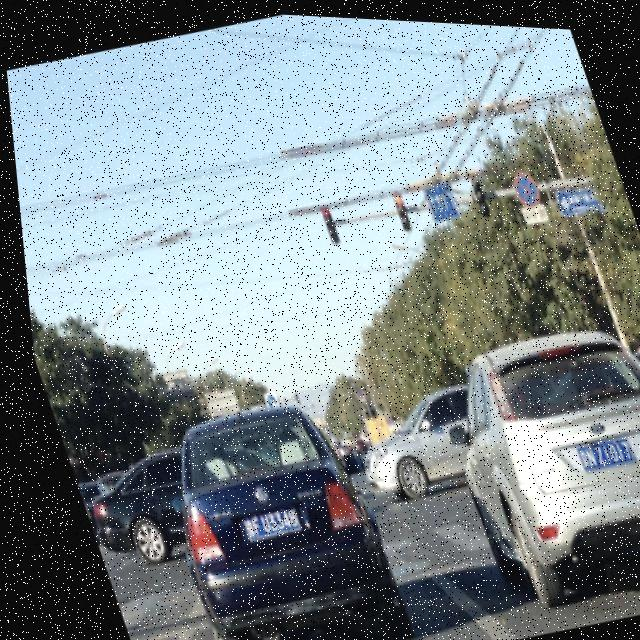license_plate: (225, 498, 292, 541), (564, 426, 624, 464)
